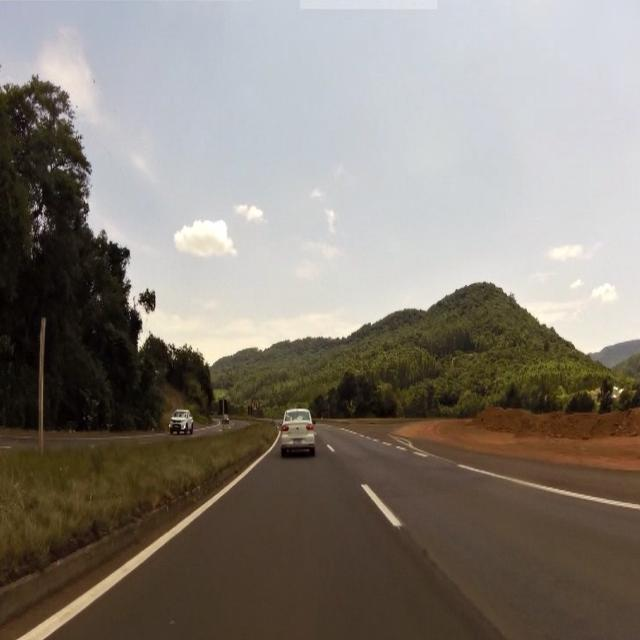R-5a: (251, 398, 259, 414)
